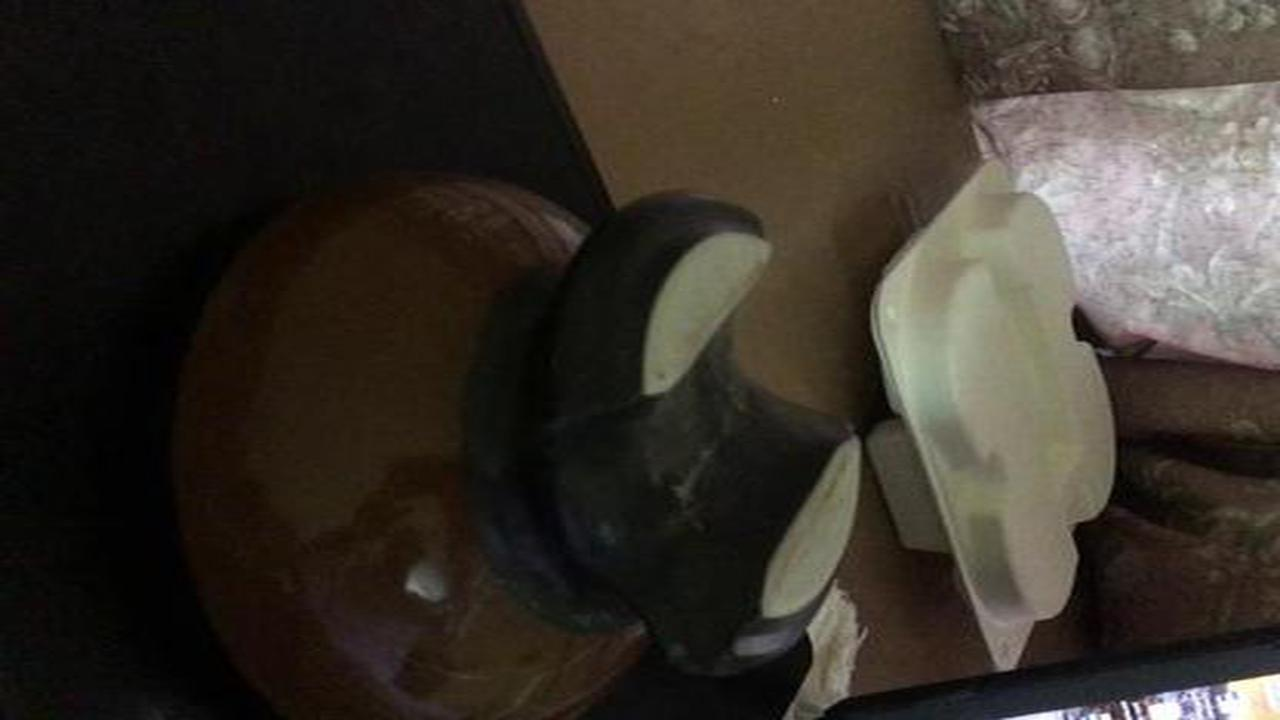insulator_pin: (157, 148, 881, 714)
